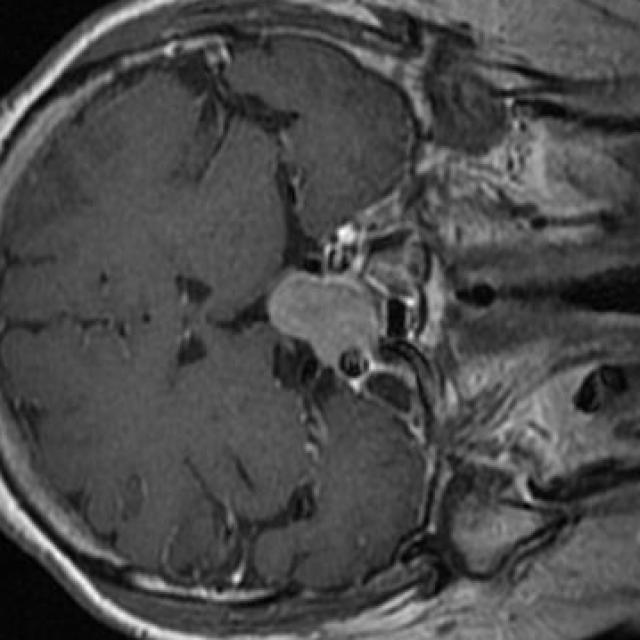pituitary: (266, 275, 382, 365)
